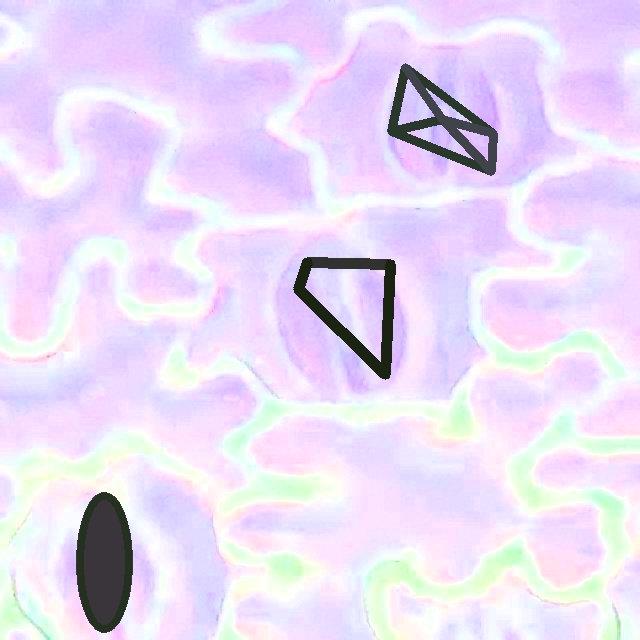open: (387, 63, 497, 175), (293, 258, 395, 378), (76, 491, 133, 633)
